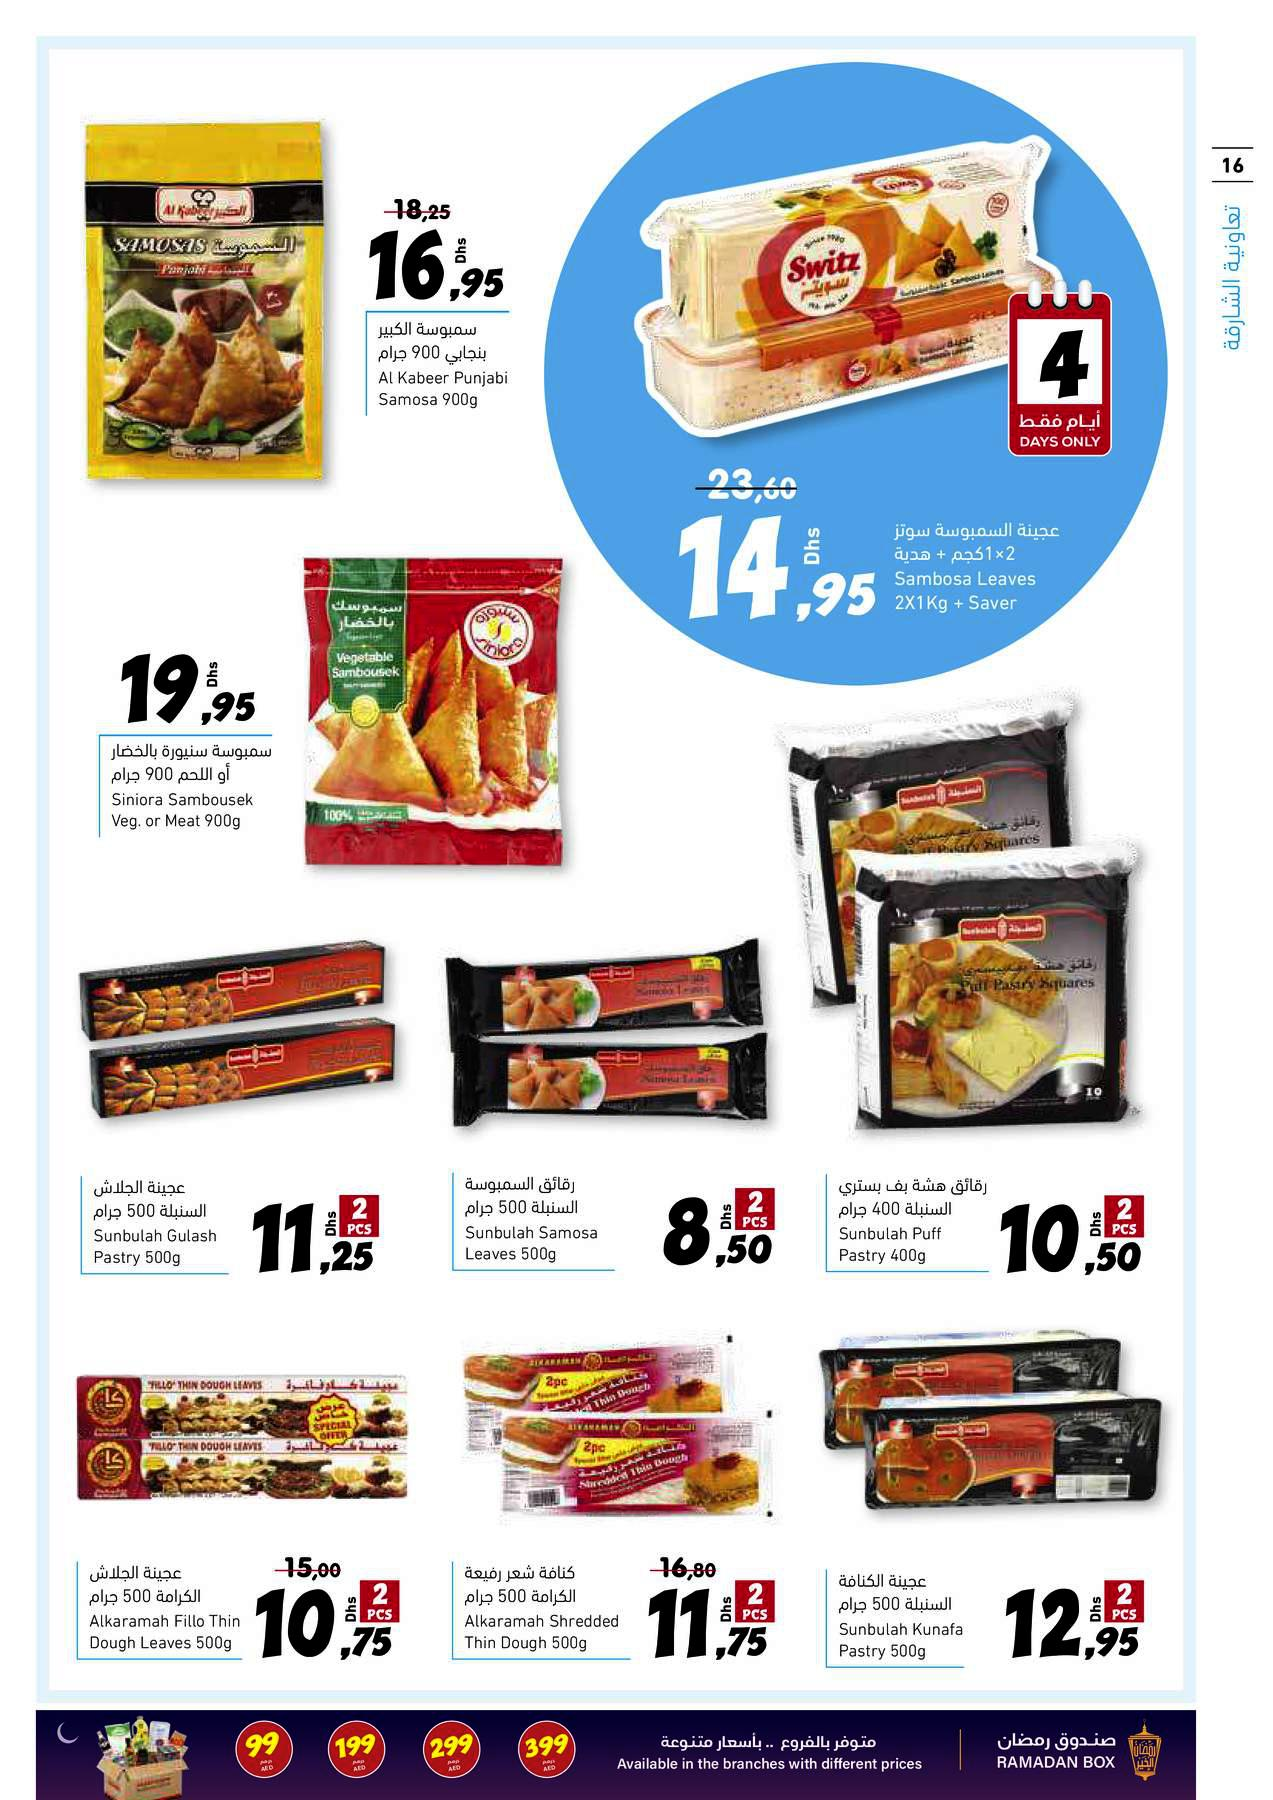text: (886, 512, 1064, 617), (103, 738, 278, 835), (457, 1559, 628, 1655), (829, 1171, 995, 1270), (84, 1558, 247, 1655), (455, 1168, 603, 1270), (831, 1566, 978, 1666), (371, 318, 518, 416), (84, 1172, 223, 1273)
